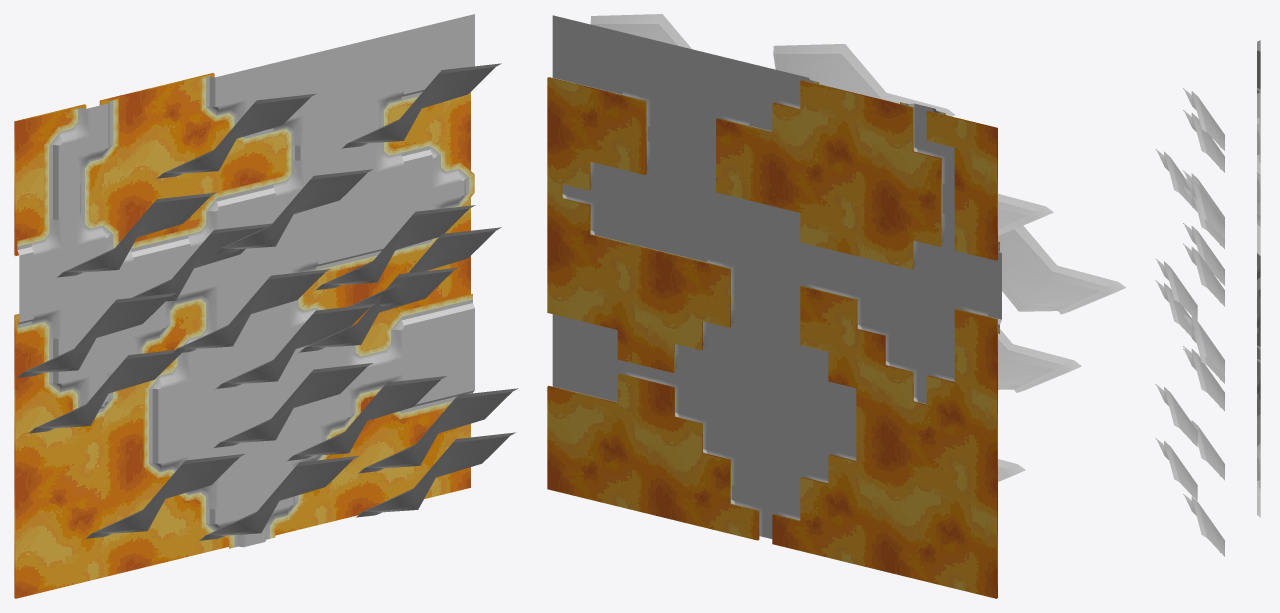
The model's file is Victory-Road-3_03_02.obj.
3 views of the same model, side by side, from view 1: azimuth 30°, elevation 25°; view 2: azimuth 150°, elevation 25°; view 3: azimuth 270°, elevation 25° (orthographic). The views are drawn at different scales.
Parts seen in each view (by area): view 1: map; view 2: map; view 3: map.
Part boxes in pixels (x1,y1,x2,y2): map: (14,14,517,598); map: (547,14,1125,598); map: (1155,40,1260,556).
Size of the model in its own units: 37.18 by 32.34 by 8.03.
